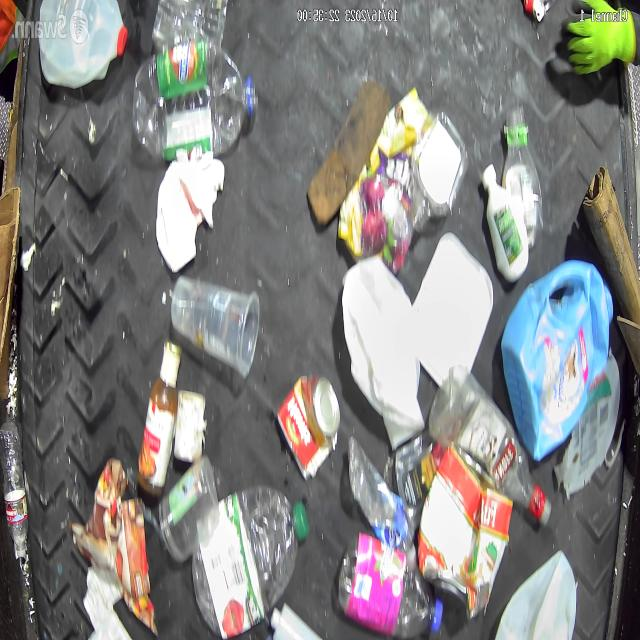can: (417, 440, 513, 620), (278, 377, 340, 480)
milk_jug: (342, 254, 426, 450), (38, 0, 128, 89), (494, 548, 578, 640)
non_white_jug: (500, 259, 614, 463)
plastic_bottle: (192, 486, 309, 635), (132, 43, 259, 165), (338, 532, 443, 638), (171, 272, 260, 377), (348, 436, 417, 562), (502, 104, 544, 249), (0, 417, 27, 558)
